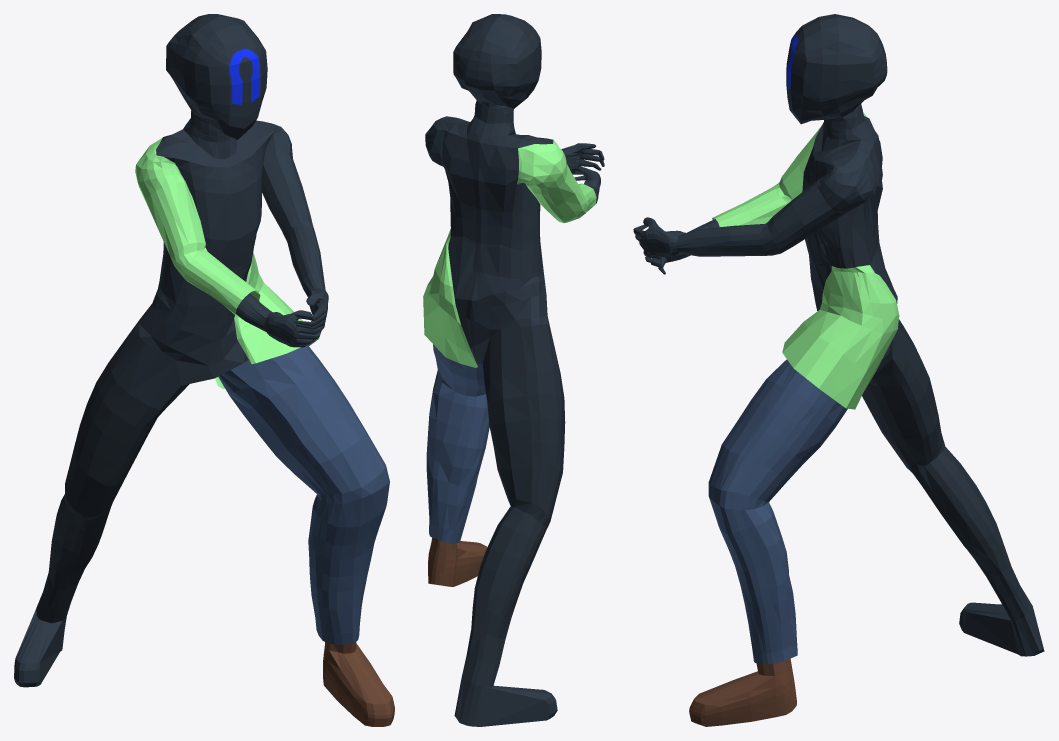
Rendered from Mar_WL_000013.obj.
3 views of the same model, side by side, from view 1: azimuth 30°, elevation 25°; view 2: azimuth 150°, elevation 25°; view 3: azimuth 270°, elevation 25° (orthographic). The views are drawn at different scales.
Parts seen in each view (by area): view 1: Cube.000_Cube.001; view 2: Cube.000_Cube.001; view 3: Cube.000_Cube.001.
Part boxes in pixels (<box>): Cube.000_Cube.001: <box>14,14,394,726</box>; Cube.000_Cube.001: <box>423,14,604,726</box>; Cube.000_Cube.001: <box>633,14,1044,726</box>.
Bounding box in the file's own units: 1.4 × 3.72 × 2.07.
